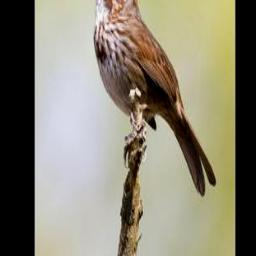Sparrow: (86, 0, 217, 198)
